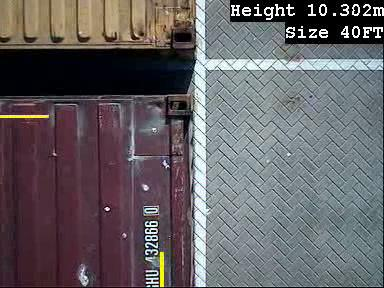groundmarker_2: (191, 34, 241, 100)
